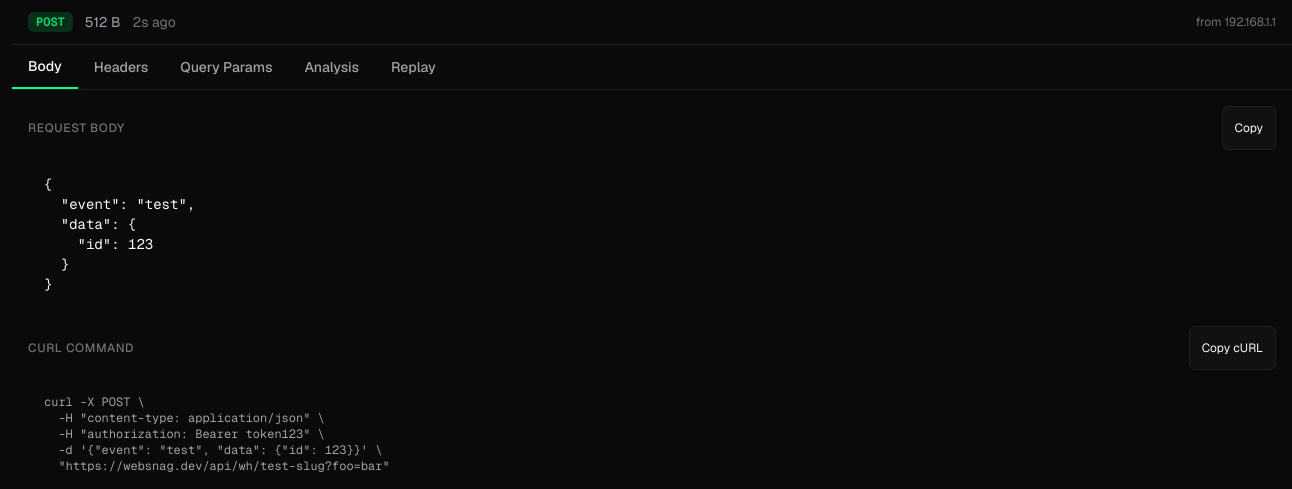
RequestDetail › switches to replay tab and shows replay panel
Click the tab "Replay" at (413, 67), box [375, 45, 452, 89]
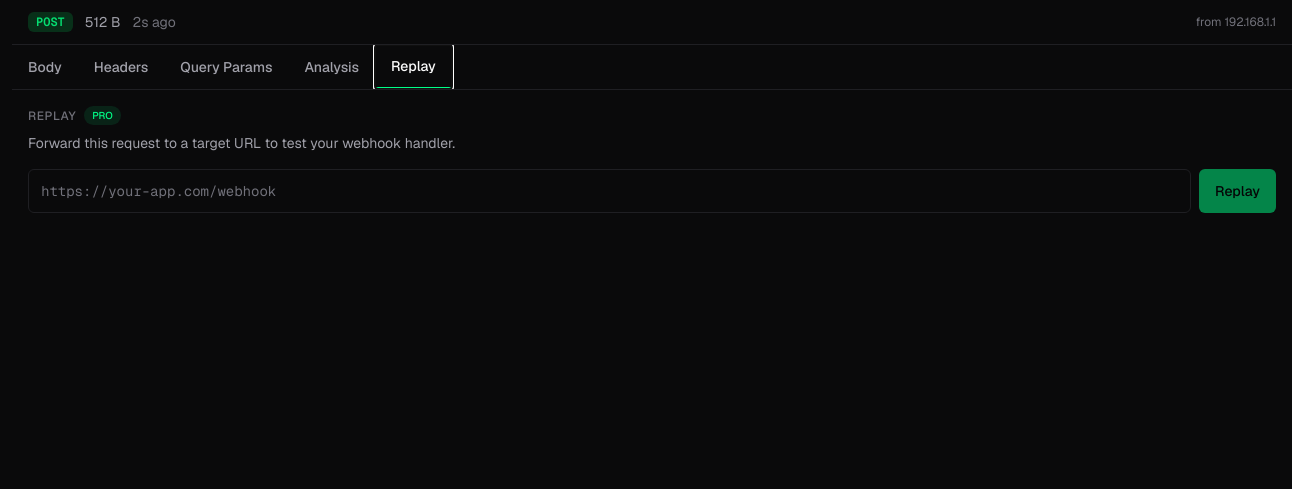
expect the field named "Target URL" is shown: met, box [28, 169, 1191, 213]
expect the text "PRO" is shown: met, box [84, 106, 121, 125]
